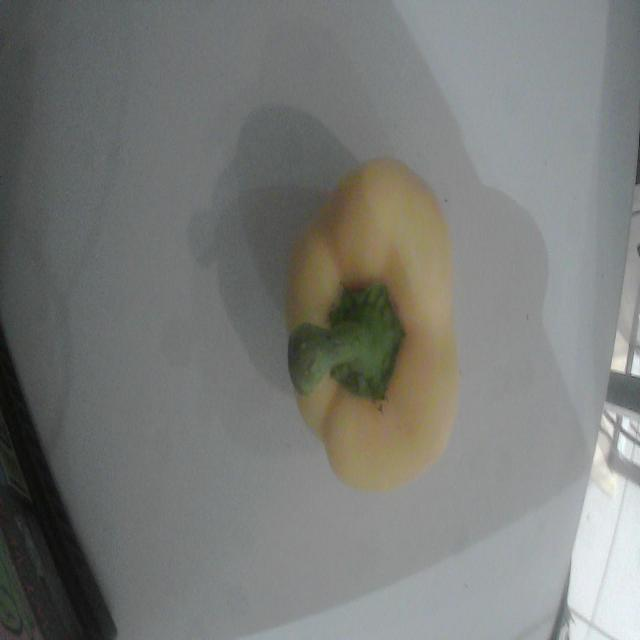Bell Pepper: (286, 159, 460, 492)
